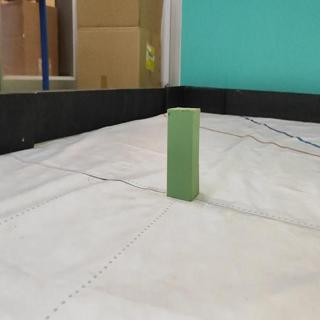greenbox: (165, 107, 201, 202)
